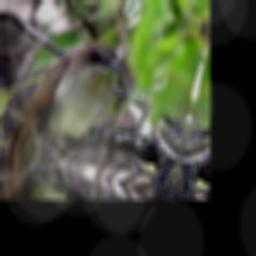Cuckoo: (9, 20, 130, 176)
